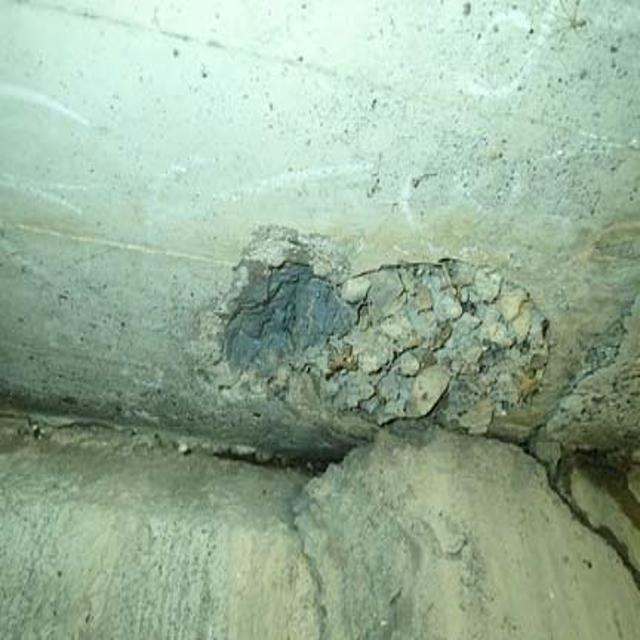spalling: (193, 219, 610, 467)
